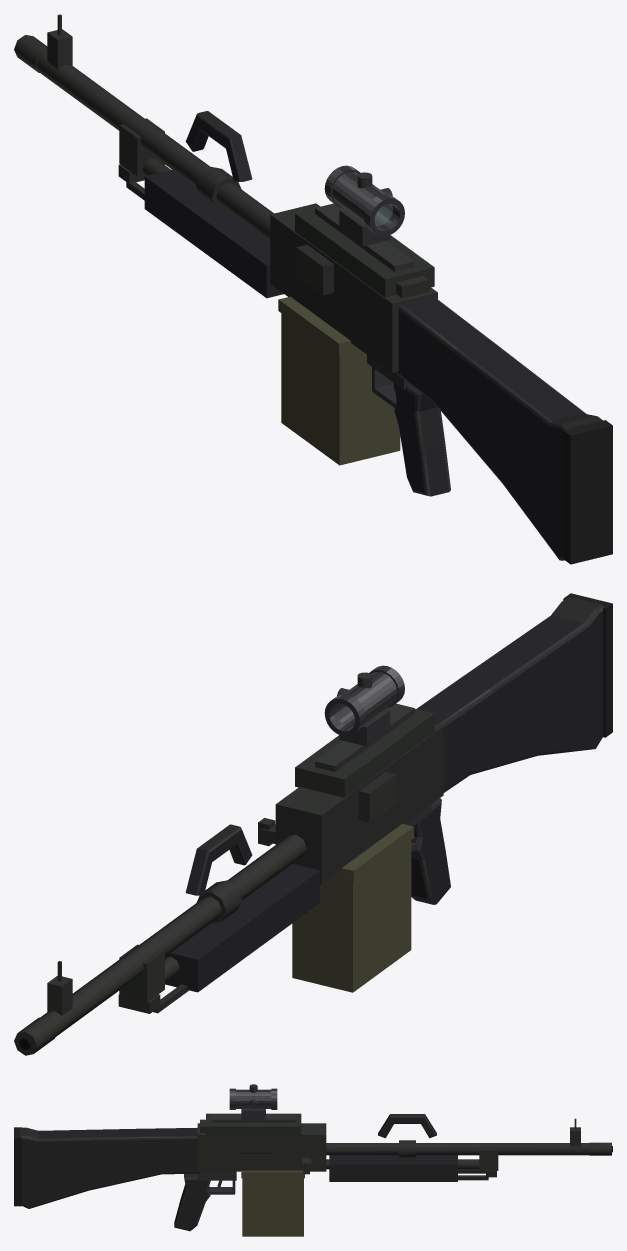
The model's file is lmg_tps.glb.
3 renders of one model, top to bottom at view 1: azimuth 30°, elevation 25°; view 2: azimuth 150°, elevation 25°; view 3: azimuth 270°, elevation 25°, orthographic. The views are drawn at different scales.
Visible parts, largest first — view 1: lmg_poly, lmg_steel, lmg_mag, lmg_alu; view 2: lmg_poly, lmg_steel, lmg_mag, lmg_alu; view 3: lmg_poly, lmg_steel, lmg_mag, lmg_alu, lmg_cover.
Part boxes in pixels (box(x1,y1,x2,y2)): lmg_poly: box(144, 111, 612, 564); lmg_steel: box(14, 14, 437, 391); lmg_mag: box(278, 296, 400, 465); lmg_alu: box(315, 165, 414, 407); lmg_poly: box(165, 593, 612, 992); lmg_steel: box(14, 707, 443, 1055); lmg_mag: box(292, 824, 414, 992); lmg_alu: box(315, 665, 431, 851); lmg_poly: box(14, 1114, 457, 1231); lmg_steel: box(197, 1113, 611, 1187); lmg_mag: box(241, 1170, 304, 1236); lmg_alu: box(197, 1084, 295, 1194); lmg_cover: box(239, 1154, 273, 1164).
Bounding box in the file's own units: 0.099 × 0.2845 × 1.07.
